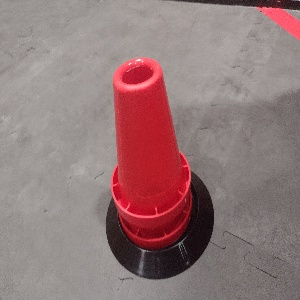Red_2: (109, 56, 193, 250)
